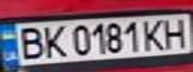0: (69, 21, 90, 56)
1: (87, 21, 109, 55), (121, 19, 142, 53)
8: (103, 19, 127, 54)
B: (12, 24, 48, 61)
H: (160, 16, 190, 50)
K: (36, 22, 69, 58), (139, 16, 169, 52)
